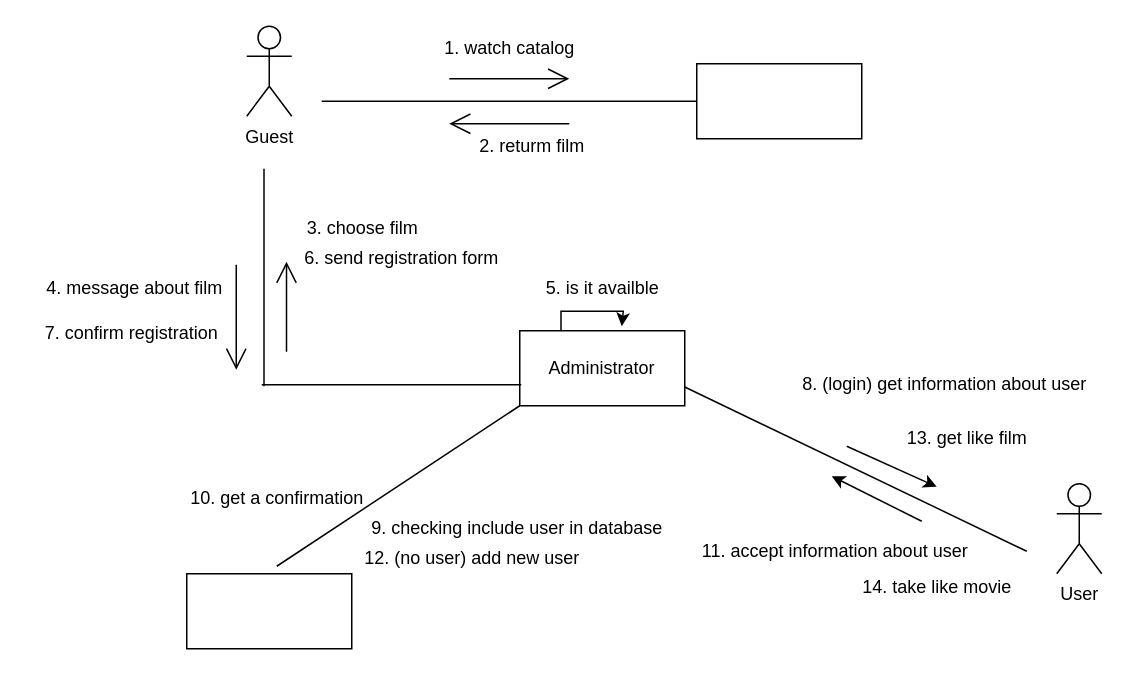
Some shapes in this 1128 by 675 pixel diagram are drawn without their labels. The centre of each missing label's shape, as x and y in pixels:
CatalogFilm: point 778,100
User database: point 268,610
